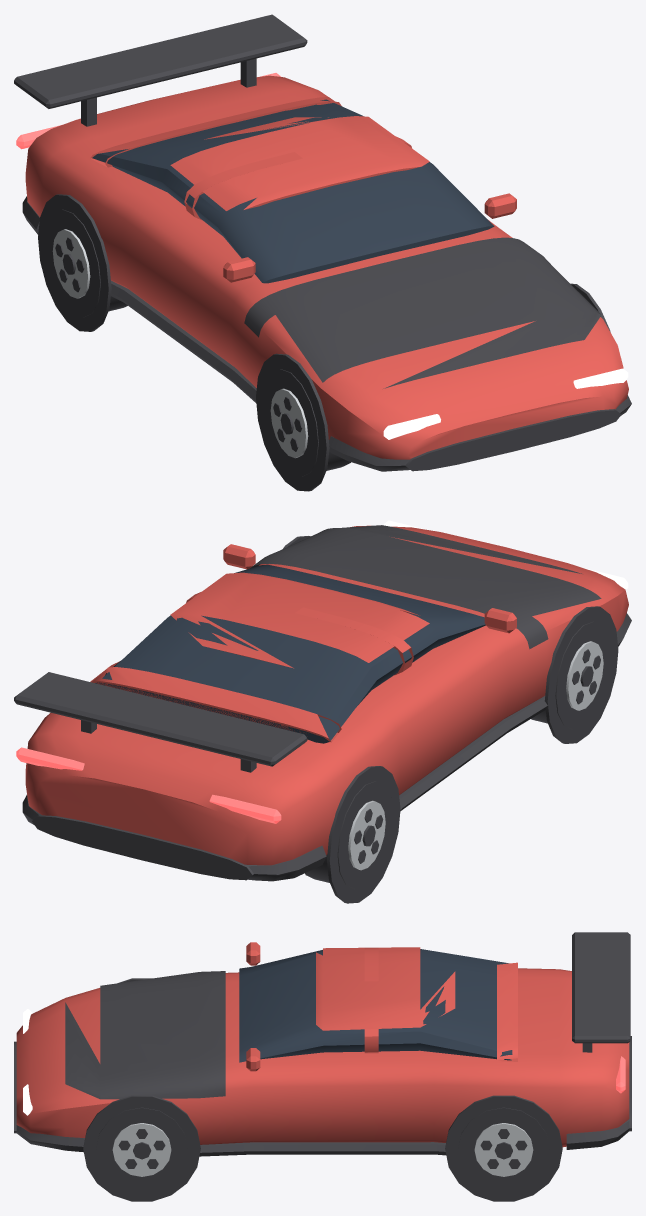
Rendered from car_sports.glb.
3 renders of one model, top to bottom at view 1: azimuth 30°, elevation 25°; view 2: azimuth 150°, elevation 25°; view 3: azimuth 270°, elevation 25°, orthographic. The views are drawn at different scales.
Parts seen in each view (by area): view 1: body, stripe, cabin, roof, wing, bumperF, wheel_FR, wheel_RR, arch.003, arch.002, skirts, pillarC (+3 smaller); view 2: body, cabin, stripe, roof, wing, bumperR, pillarC, wheel_RR, wheel_FR, arch.003, arch.002, skirts (+5 smaller); view 3: body, stripe, cabin, roof, wing, wheel_FL, wheel_RL, arch, arch.001, skirts, pillarC, bumperR (+2 smaller).
Boxes of the visible parts, <box> form: body: <box>25,75,628,459</box>; stripe: <box>244,237,601,388</box>; cabin: <box>92,99,494,283</box>; roof: <box>170,116,429,210</box>; wing: <box>14,14,307,108</box>; bumperF: <box>329,395,631,471</box>; wheel_FR: <box>263,369,350,476</box>; wheel_RR: <box>45,209,127,317</box>; arch.003: <box>38,194,111,331</box>; arch.002: <box>256,353,329,491</box>; skirts: <box>111,280,256,402</box>; pillarC: <box>90,97,341,167</box>; body: <box>25,525,628,865</box>; cabin: <box>95,564,485,743</box>; stripe: <box>250,525,601,649</box>; roof: <box>170,572,429,668</box>; wing: <box>14,672,307,766</box>; bumperR: <box>22,795,326,881</box>; pillarC: <box>92,667,341,742</box>; wheel_RR: <box>305,781,393,889</box>; wheel_FR: <box>531,621,611,729</box>; arch.003: <box>327,766,400,903</box>; arch.002: <box>544,606,618,743</box>; skirts: <box>399,696,547,811</box>; body: <box>16,968,629,1147</box>; stripe: <box>65,971,225,1099</box>; cabin: <box>239,949,512,1062</box>; roof: <box>316,947,455,1030</box>; wing: <box>572,932,630,1043</box>; wheel_FL: <box>96,1107,187,1190</box>; wheel_RL: <box>458,1107,549,1190</box>; arch: <box>83,1095,200,1201</box>; arch.001: <box>445,1095,562,1201</box>; skirts: <box>199,1142,446,1156</box>; pillarC: <box>497,962,517,1061</box>; bumperR: <box>566,1036,631,1149</box>.
Size of the model in its own units: 2.08 by 1.29 by 4.44.
